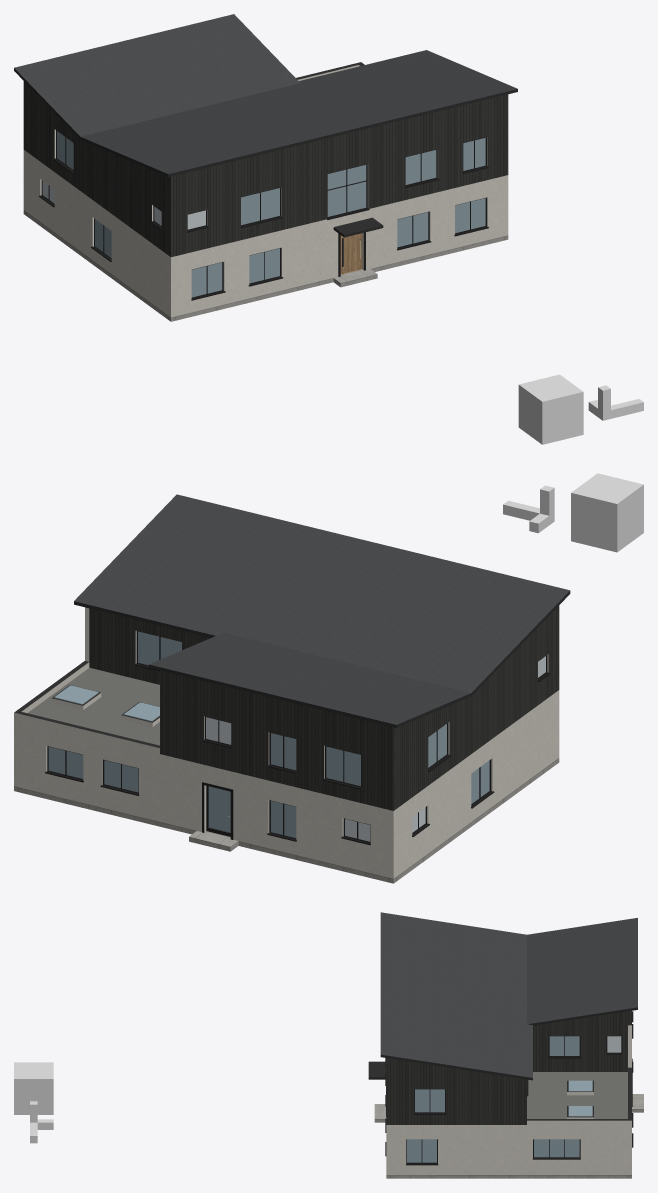
File: H_House.fbx
3 views of the same model, one above another, from view 1: azimuth 30°, elevation 25°; view 2: azimuth 150°, elevation 25°; view 3: azimuth 270°, elevation 25° (orthographic). The views are drawn at different scales.
Visible parts, largest first — view 1: Shell_R_RoofMetal, Shell_U_Cladding, Shell_G_Render, Shell_R_Cladding, K_ScaleCube, Shell_R_Charcoal, Shell_U_Render, Shell_G_Concrete, Win_FY_S_Glass, Win_MB_S_Glass, K_Marker, Win_BR2_S1_Glass (+5 smaller); view 2: Shell_R_RoofMetal, Shell_G_Render, Shell_U_Cladding, Shell_R_Cladding, Shell_U_Gravel, K_ScaleCube, Shell_R_Charcoal, Shell_G_Concrete, Shell_R_Render, Shell_U_Render, K_Marker, Win_BR3_N1_Glass (+9 smaller); view 3: Shell_R_RoofMetal, Shell_G_Render, Shell_U_Cladding, Shell_U_Gravel, Shell_R_Cladding, K_ScaleCube, Shell_R_Charcoal, Shell_R_Render, Shell_G_Concrete, Win_KT_E_Glass, Win_BR2_E_Glass, Win_DR_E_Glass (+4 smaller).
Boxes of the visible parts, box(x1,y1,x2,y2) form: Shell_R_RoofMetal: box(14, 14, 517, 173); Shell_U_Cladding: box(23, 94, 508, 257); Shell_G_Render: box(23, 154, 508, 317); Shell_R_Cladding: box(23, 81, 508, 201); K_ScaleCube: box(518, 374, 583, 444); Shell_R_Charcoal: box(14, 62, 517, 237); Shell_U_Render: box(23, 150, 508, 261); Shell_G_Concrete: box(23, 210, 508, 321); Win_FY_S_Glass: box(327, 165, 366, 216); Win_MB_S_Glass: box(241, 188, 279, 225); K_Marker: box(588, 385, 643, 420); Win_BR2_S1_Glass: box(405, 150, 436, 184); Shell_R_RoofMetal: box(74, 494, 569, 724); Shell_G_Render: box(14, 695, 559, 878); Shell_U_Cladding: box(89, 608, 559, 810); Shell_R_Cladding: box(160, 605, 559, 747); Shell_U_Gravel: box(27, 667, 159, 745); K_ScaleCube: box(571, 473, 643, 552); Shell_R_Charcoal: box(14, 591, 570, 747); Shell_G_Concrete: box(14, 758, 559, 883); Shell_R_Render: box(14, 662, 159, 758); Shell_U_Render: box(160, 690, 559, 815); K_Marker: box(503, 485, 554, 533); Win_BR3_N1_Glass: box(326, 746, 360, 785); Shell_R_RoofMetal: box(380, 912, 637, 1077); Shell_G_Render: box(386, 1128, 631, 1174); Shell_U_Cladding: box(386, 1025, 627, 1124); Shell_U_Gravel: box(527, 1072, 627, 1118); Shell_R_Cladding: box(386, 1011, 631, 1077); K_ScaleCube: box(14, 1062, 53, 1114); Shell_R_Charcoal: box(368, 1007, 637, 1120); Shell_R_Render: box(527, 1092, 631, 1128); Shell_G_Concrete: box(386, 1175, 631, 1178); Win_KT_E_Glass: box(534, 1139, 579, 1157); Win_BR2_E_Glass: box(415, 1089, 444, 1112); Win_DR_E_Glass: box(407, 1139, 436, 1162).
Size of the model in its own units: 8500 by 3525 by 15900.
26 materials, 21 textured.
